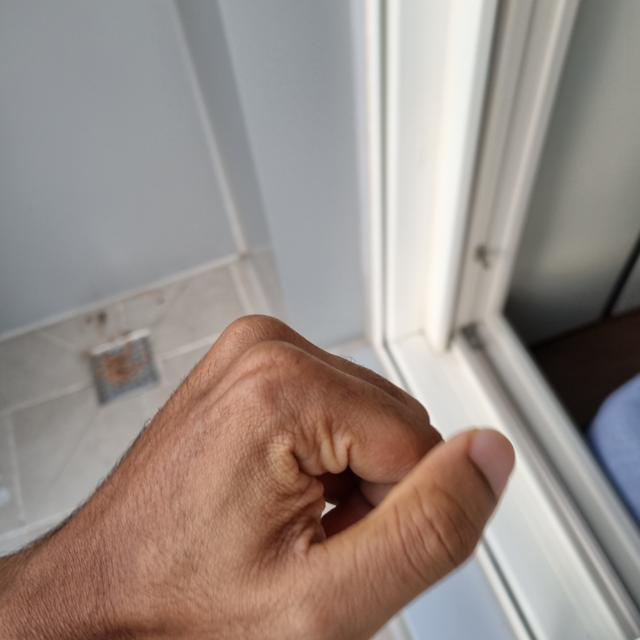Rock: (1, 320, 512, 639)
